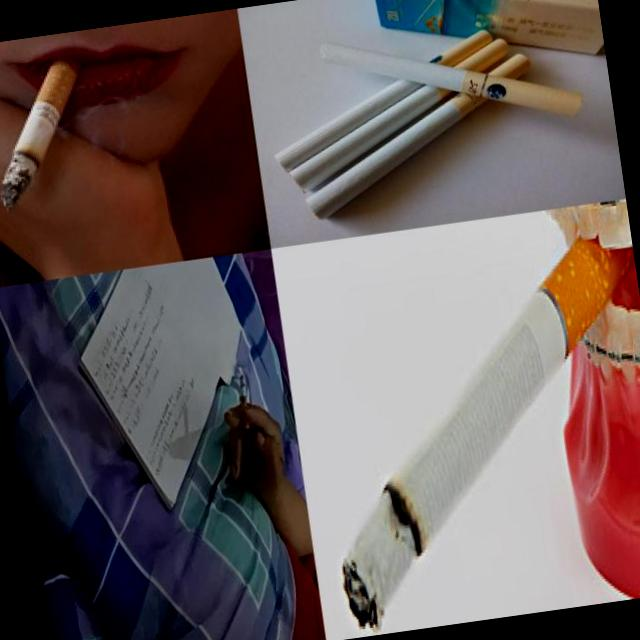cigarette: (299, 237, 640, 636), (290, 52, 550, 221), (274, 38, 526, 196), (318, 4, 587, 152), (261, 29, 508, 174), (0, 38, 104, 211), (238, 375, 252, 429)
